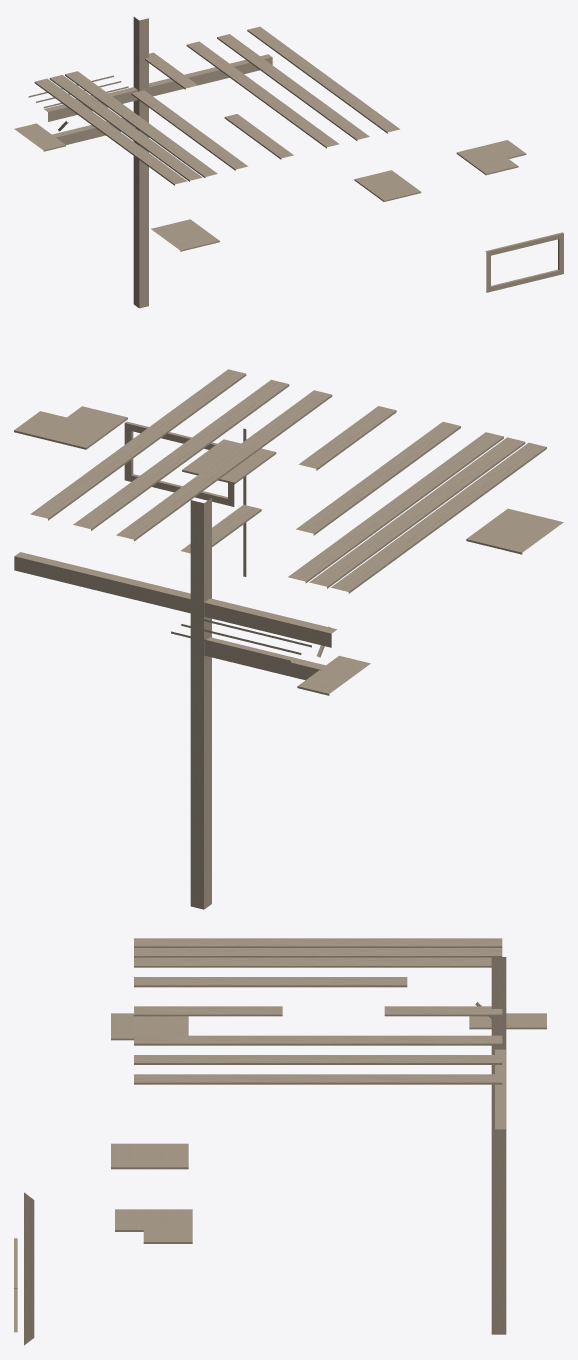
The model's file is kd_stage_135c43_4_18_bounded.glb.
The picture shows the model from 3 angles, top to bottom: view 1: azimuth 30°, elevation 25°; view 2: azimuth 150°, elevation 25°; view 3: azimuth 270°, elevation 25°; orthographic projection. The views are drawn at different scales.
Visible parts, largest first — view 1: kd_stage_135c43_4_18_bounded; view 2: kd_stage_135c43_4_18_bounded; view 3: kd_stage_135c43_4_18_bounded.
Boxes of the visible parts, left/top/right/bottom form: kd_stage_135c43_4_18_bounded: left=14, top=17, right=563, bottom=308; kd_stage_135c43_4_18_bounded: left=14, top=369, right=563, bottom=909; kd_stage_135c43_4_18_bounded: left=14, top=938, right=546, bottom=1345.
Bounding box in the file's own units: 5.6 × 4.3 × 5.68.
1 material, 1 textured.
